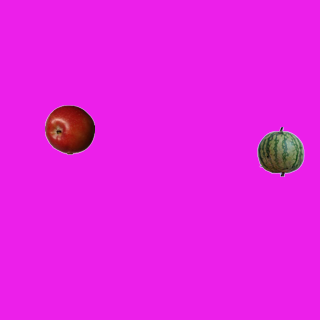Apple Braeburn: (44, 104, 94, 154)
Watermelon: (255, 126, 305, 176)
